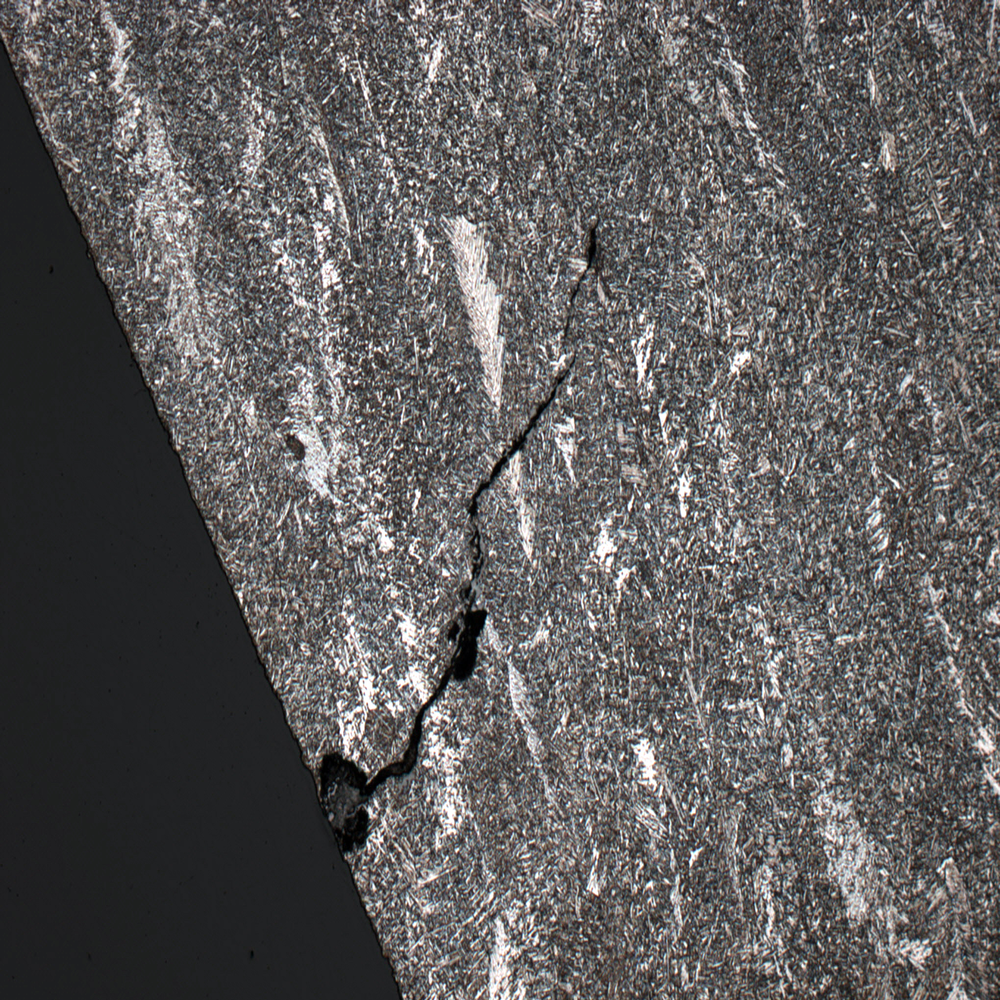crack: (287, 196, 631, 861)
